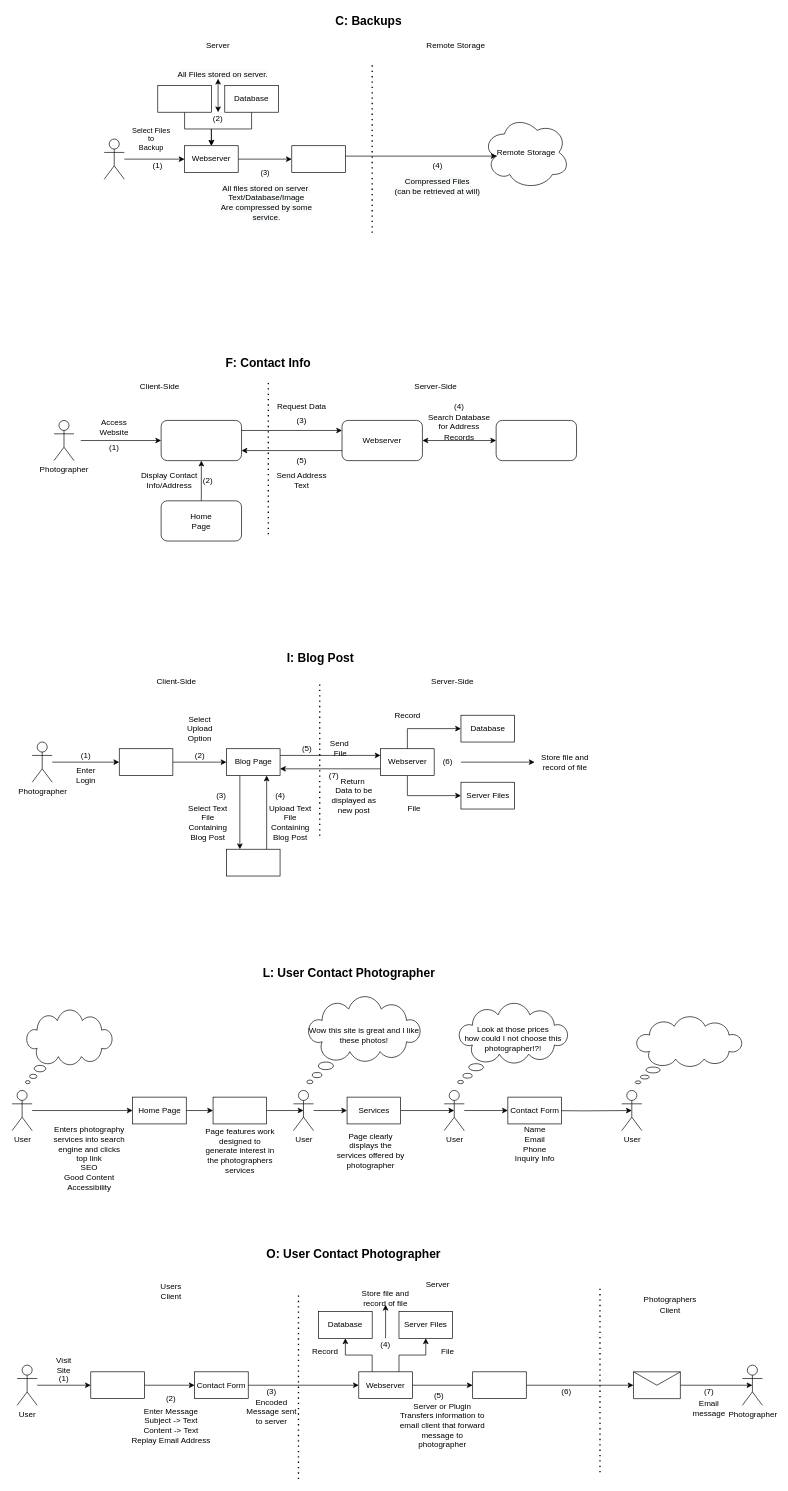
Some shapes in this 788 by 1491 pixel diagram are drawn without their labels. The shapes that lost their labels are listed below. From the top down, each one's centre as x and y in pixels, then its label:
At [184,98]: "Filesystem".
At [114,158]: "Admin".
At [318,159]: "Compressed File/Snapshot".
At [201,440]: "Website".
At [536,440]: "Webserver Database".
At [146,762]: "Login Page".
At [253,862]: "Client Desktop".
At [69,1046]: "Looking for photography services".
At [688,1050]: "Wow! That was easy and intuitive. 10/10".
At [239,1110]: "Gallery".
At [117,1385]: "Contact Page".
At [499,1385]: "Plugin/Service".
At [656,1385]: "email client".
